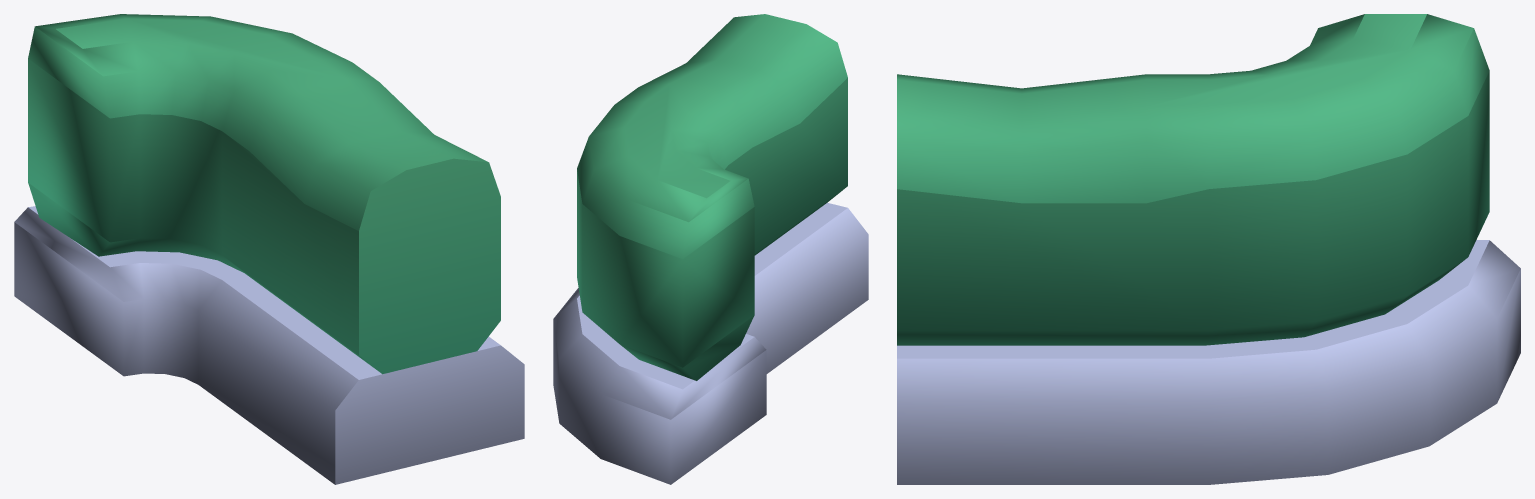
File: Hedge_Large_Edge.glb
The picture shows the model from 3 angles, left to right: view 1: azimuth 30°, elevation 25°; view 2: azimuth 150°, elevation 25°; view 3: azimuth 270°, elevation 25°; orthographic projection. The views are drawn at different scales.
Parts seen in each view (by area): view 1: hedge-large-curved; view 2: hedge-large-curved; view 3: hedge-large-curved.
Boxes of the visible parts, box(x1,y1,x2,y2) form: hedge-large-curved: box(14, 14, 524, 484); hedge-large-curved: box(553, 14, 868, 484); hedge-large-curved: box(897, 14, 1520, 484).
Size of the model in its own units: 0.5049 by 0.6 by 1.
Materials: 1 (1 with a texture image).
